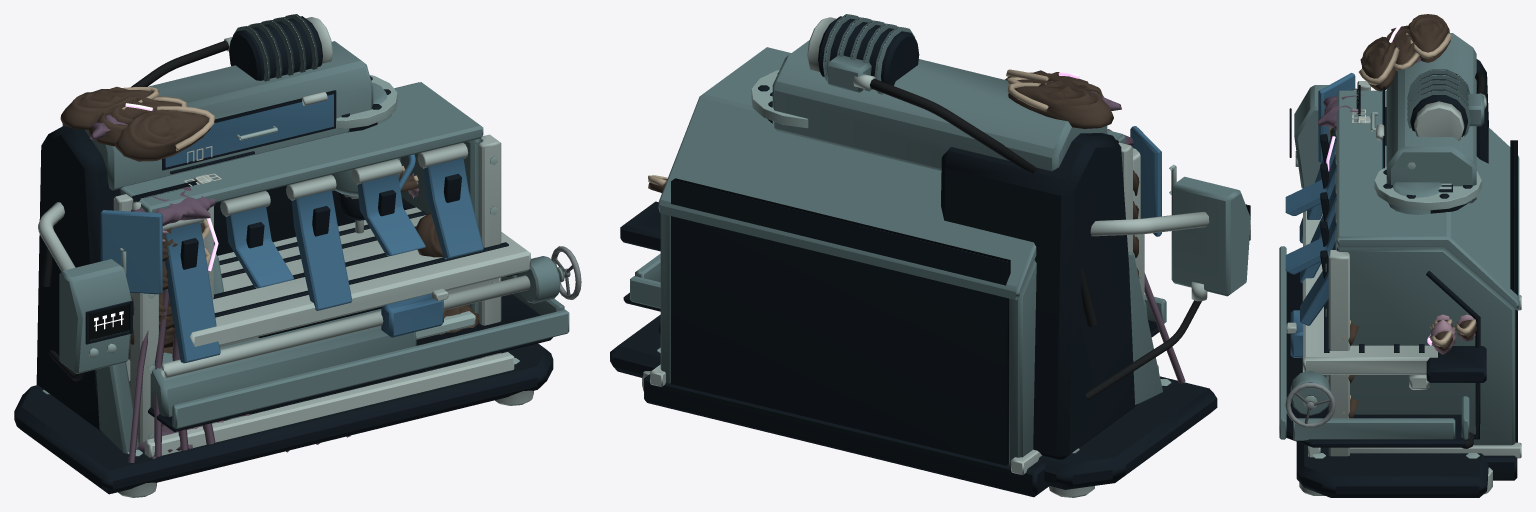
File: infested.glb
3 views of the same model, side by side, from view 1: azimuth 30°, elevation 25°; view 2: azimuth 150°, elevation 25°; view 3: azimuth 270°, elevation 25° (orthographic). The views are drawn at different scales.
Visible parts, largest first — view 1: engulfed-milling-machine--e9-body, engulfed-milling-machine--e9-dark, engulfed-milling-machine--p11-steel, ruptured-brood-plenum--p11-tint-metal, ruptured-brood-plenum--p11-steel, ruptured-brood-plenum--e9-body, engulfed-milling-machine--p11-tint-metal, engulfed-milling-machine--p11-tint, ruptured-brood-plenum--e9-dark, engulfed-milling-machine--p11-growth, engulfed-milling-machine--p11-rubber, ruptured-brood-plenum--p11-tint (+3 smaller); view 2: ruptured-brood-plenum--e9-dark, engulfed-milling-machine--e9-dark, ruptured-brood-plenum--e9-body, engulfed-milling-machine--e9-body, engulfed-milling-machine--p11-tint, engulfed-milling-machine--p11-steel, engulfed-milling-machine--p11-rubber, engulfed-milling-machine--p11-tint-metal, ruptured-brood-plenum--p11-steel, ruptured-brood-plenum--e9-trim, engulfed-milling-machine--p11-growth; view 3: ruptured-brood-plenum--e9-body, engulfed-milling-machine--e9-body, engulfed-milling-machine--e9-dark, engulfed-milling-machine--p11-steel, ruptured-brood-plenum--p11-steel, ruptured-brood-plenum--e9-dark, engulfed-milling-machine--p11-tint, ruptured-brood-plenum--p11-tint-metal, engulfed-milling-machine--p11-tint-metal, ruptured-brood-plenum--e9-trim, engulfed-milling-machine--p11-flesh, engulfed-milling-machine--p11-growth (+3 smaller).
Part boxes in pixels (<box>): engulfed-milling-machine--e9-body: <box>59,14,569,453</box>; engulfed-milling-machine--e9-dark: <box>14,16,553,494</box>; engulfed-milling-machine--p11-steel: <box>38,17,565,497</box>; ruptured-brood-plenum--p11-tint-metal: <box>165,158,483,363</box>; ruptured-brood-plenum--p11-steel: <box>130,134,514,457</box>; ruptured-brood-plenum--e9-body: <box>120,82,483,361</box>; engulfed-milling-machine--p11-tint-metal: <box>100,94,581,337</box>; engulfed-milling-machine--p11-tint: <box>60,86,418,347</box>; ruptured-brood-plenum--e9-dark: <box>36,76,461,384</box>; engulfed-milling-machine--p11-growth: <box>90,100,215,462</box>; engulfed-milling-machine--p11-rubber: <box>41,40,518,381</box>; ruptured-brood-plenum--p11-tint: <box>129,173,479,386</box>; ruptured-brood-plenum--e9-dark: <box>644,73,1049,497</box>; engulfed-milling-machine--e9-dark: <box>610,16,1250,489</box>; ruptured-brood-plenum--e9-body: <box>658,47,1125,466</box>; engulfed-milling-machine--e9-body: <box>630,14,1250,404</box>; engulfed-milling-machine--p11-tint: <box>648,69,1139,278</box>; engulfed-milling-machine--p11-steel: <box>642,17,1209,497</box>; engulfed-milling-machine--p11-rubber: <box>658,78,1201,400</box>; engulfed-milling-machine--p11-tint-metal: <box>1130,126,1161,236</box>; ruptured-brood-plenum--p11-steel: <box>650,148,1158,475</box>; ruptured-brood-plenum--e9-trim: <box>751,70,808,128</box>; engulfed-milling-machine--p11-growth: <box>1050,81,1185,383</box>; ruptured-brood-plenum--e9-body: <box>1336,90,1519,445</box>; engulfed-milling-machine--e9-body: <box>1279,33,1484,440</box>; engulfed-milling-machine--e9-dark: <box>1286,59,1488,497</box>; engulfed-milling-machine--p11-steel: <box>1286,81,1492,495</box>; ruptured-brood-plenum--p11-steel: <box>1308,126,1521,458</box>; ruptured-brood-plenum--e9-dark: <box>1320,107,1517,480</box>; engulfed-milling-machine--p11-tint: <box>1330,14,1477,350</box>; ruptured-brood-plenum--p11-tint-metal: <box>1285,128,1336,325</box>; engulfed-milling-machine--p11-tint-metal: <box>1285,73,1383,427</box>; ruptured-brood-plenum--e9-trim: <box>1325,166,1481,378</box>; engulfed-milling-machine--p11-flesh: <box>1429,314,1476,354</box>; engulfed-milling-machine--p11-growth: <box>1318,28,1420,129</box>.
Size of the model in its own units: 4.16 by 2.97 by 1.94.
